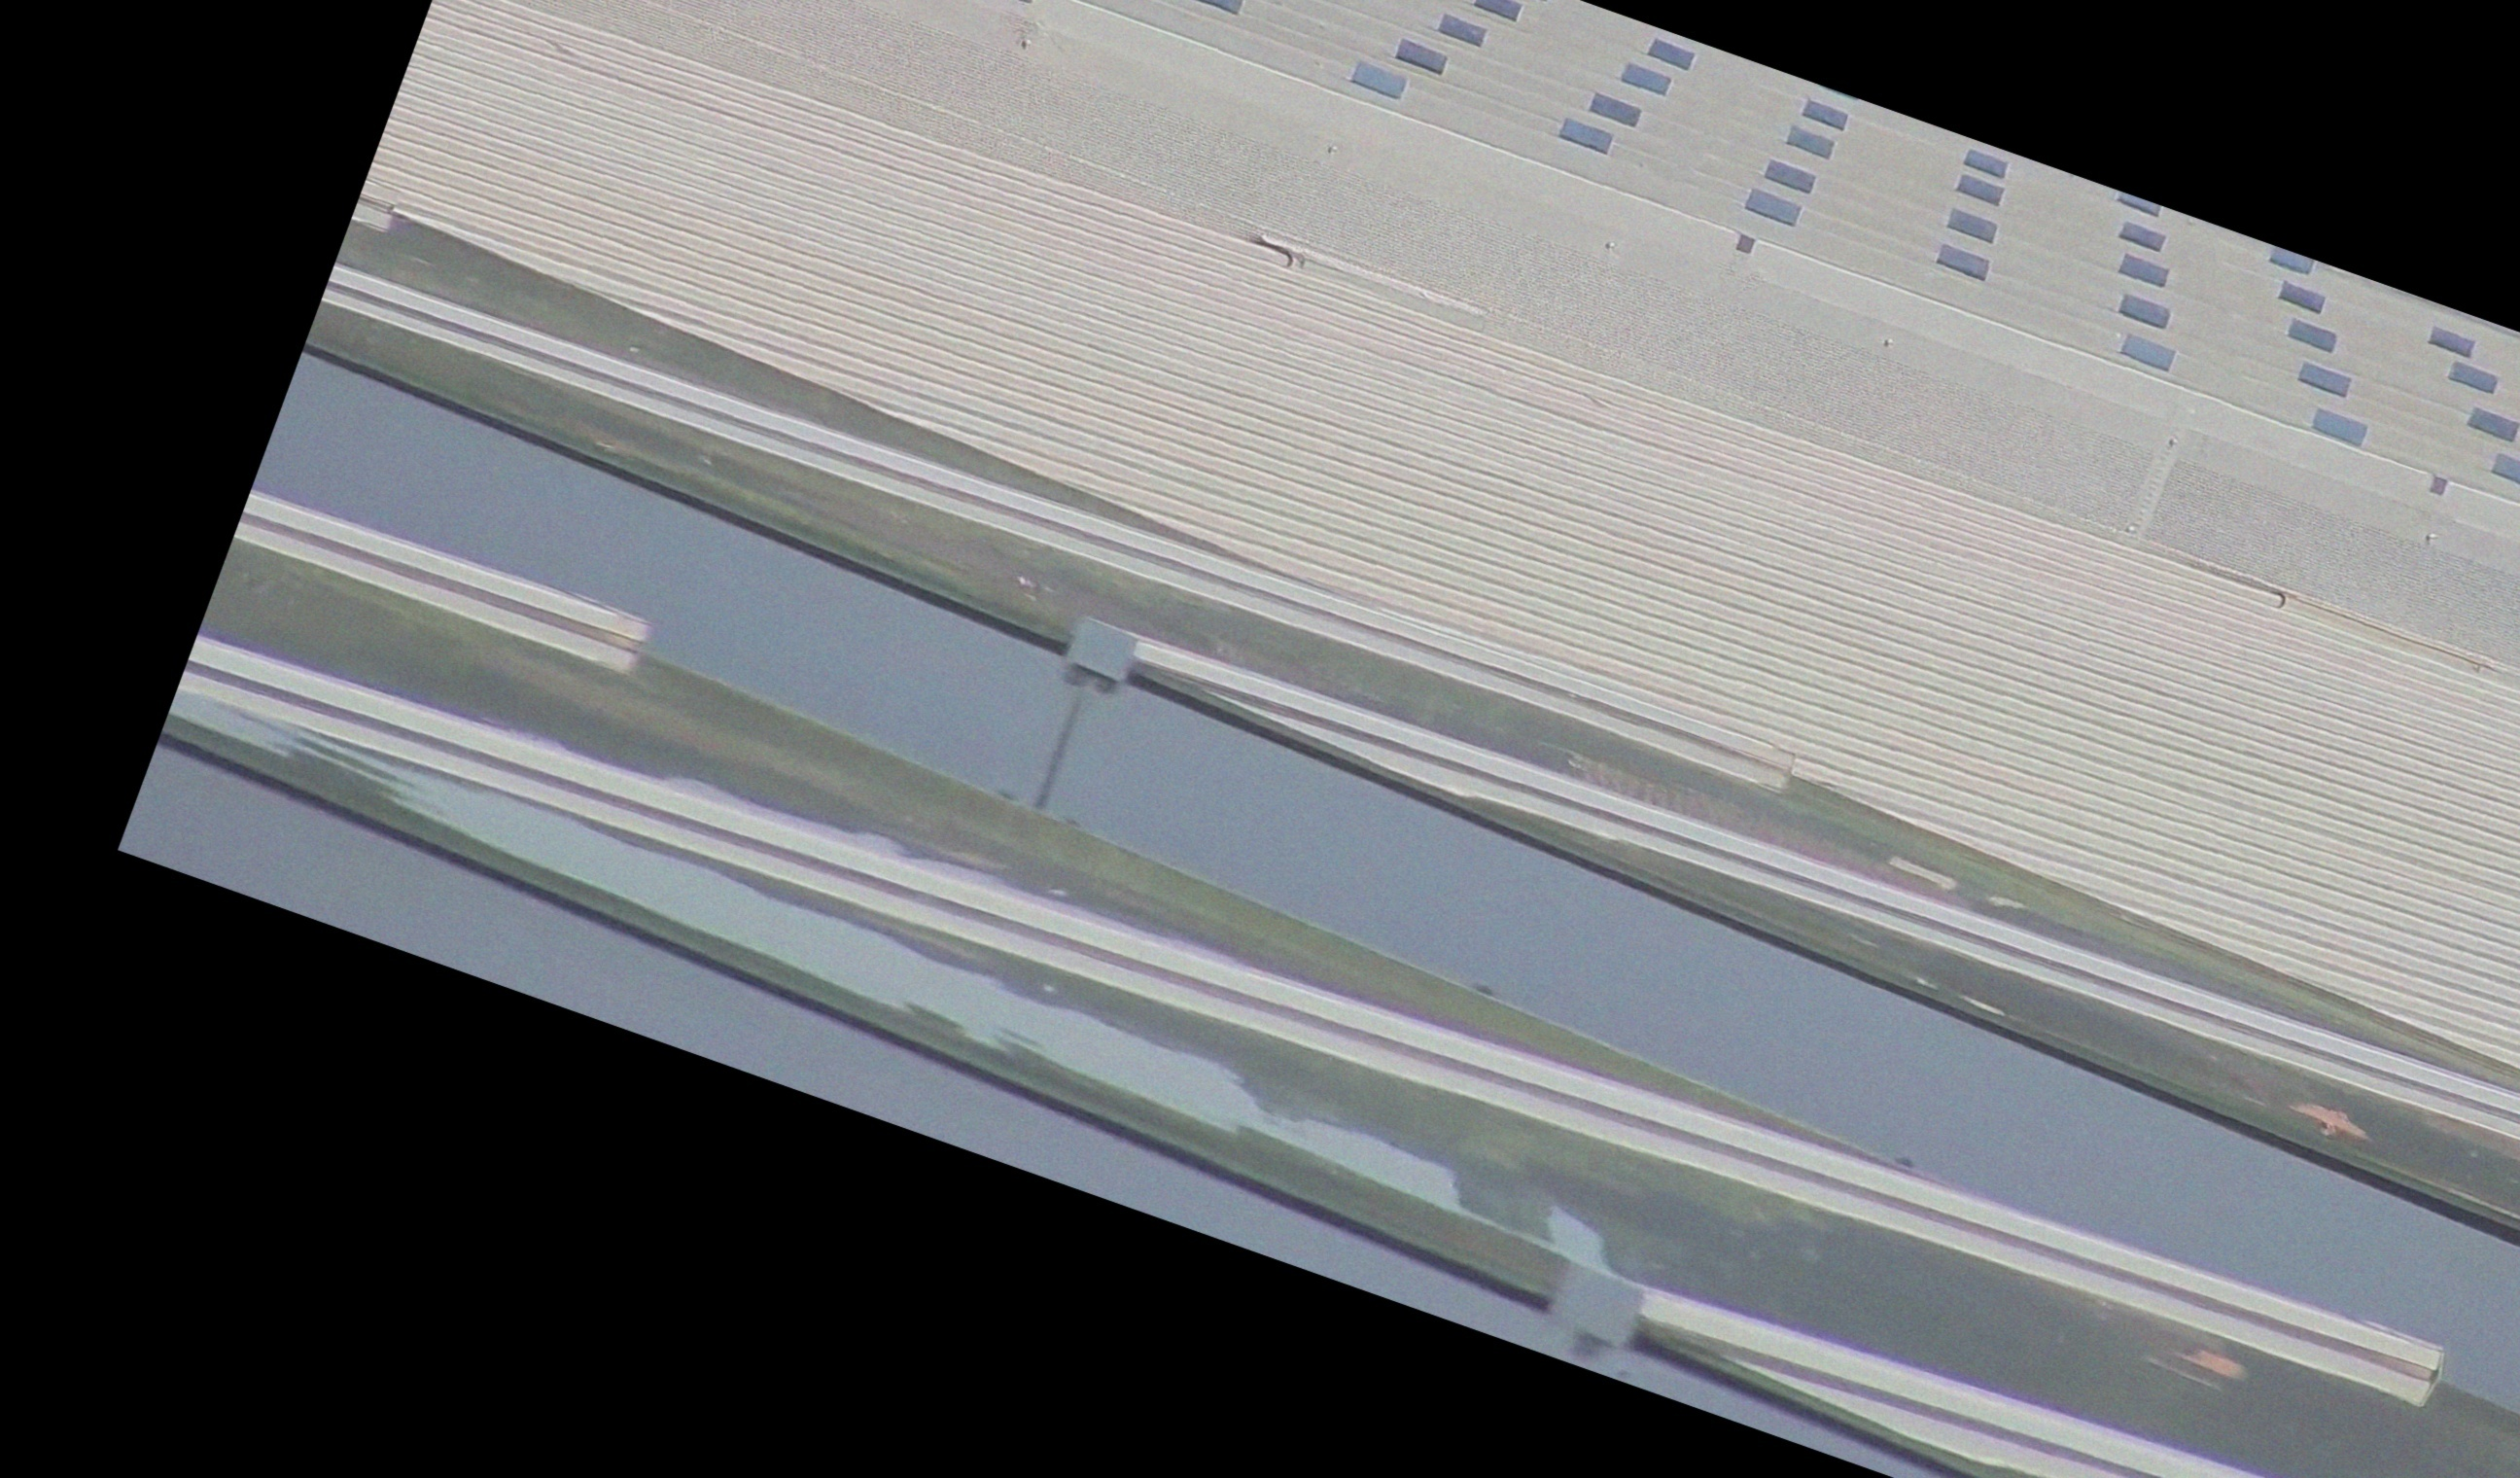Other: (1769, 0, 1961, 99)
